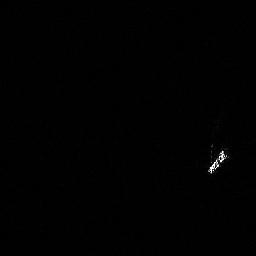ship: (206, 142, 229, 174)
